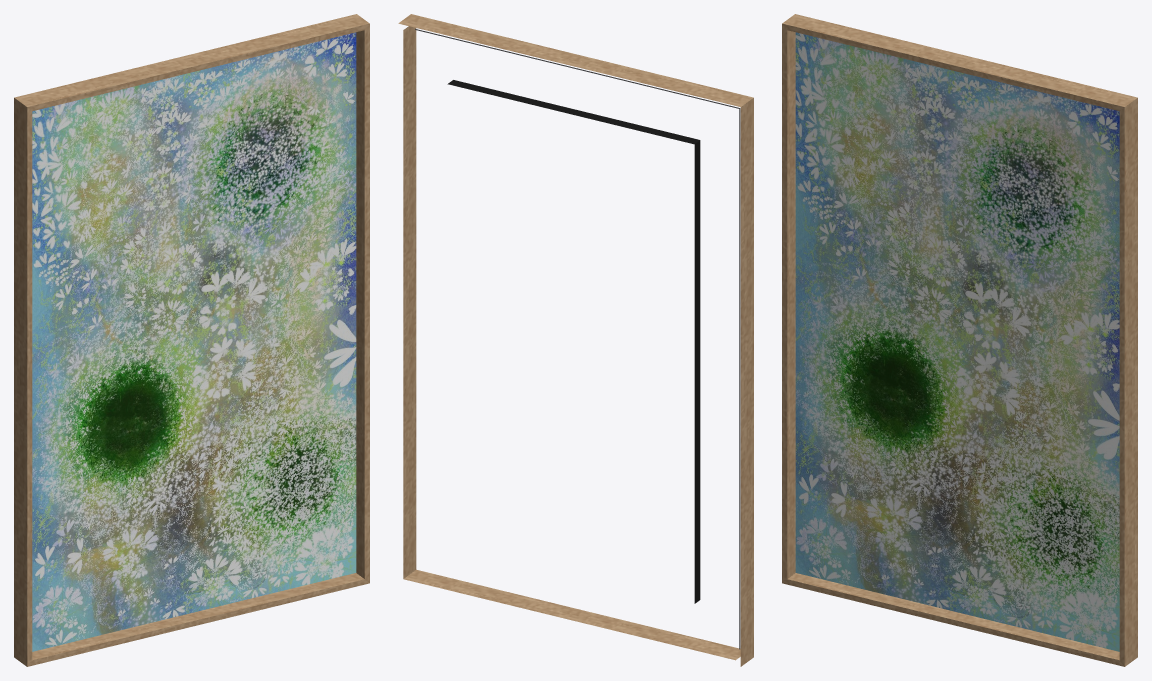
The model's file is os032_moyen_caisse-chene.glb.
3 views of the same model, side by side, from view 1: azimuth 30°, elevation 25°; view 2: azimuth 150°, elevation 25°; view 3: azimuth 330°, elevation 25° (orthographic).
Parts seen in each view (by area): view 1: os032_moyen_caisse-chene; view 2: os032_moyen_caisse-chene; view 3: os032_moyen_caisse-chene.
Boxes of the visible parts, x1,y1,x2,y2 form: os032_moyen_caisse-chene: [14, 14, 369, 666]; os032_moyen_caisse-chene: [398, 14, 753, 666]; os032_moyen_caisse-chene: [782, 14, 1137, 666].
Size of the model in its own units: 0.5304 by 0.828 by 0.035.
4 materials, 2 textured.
